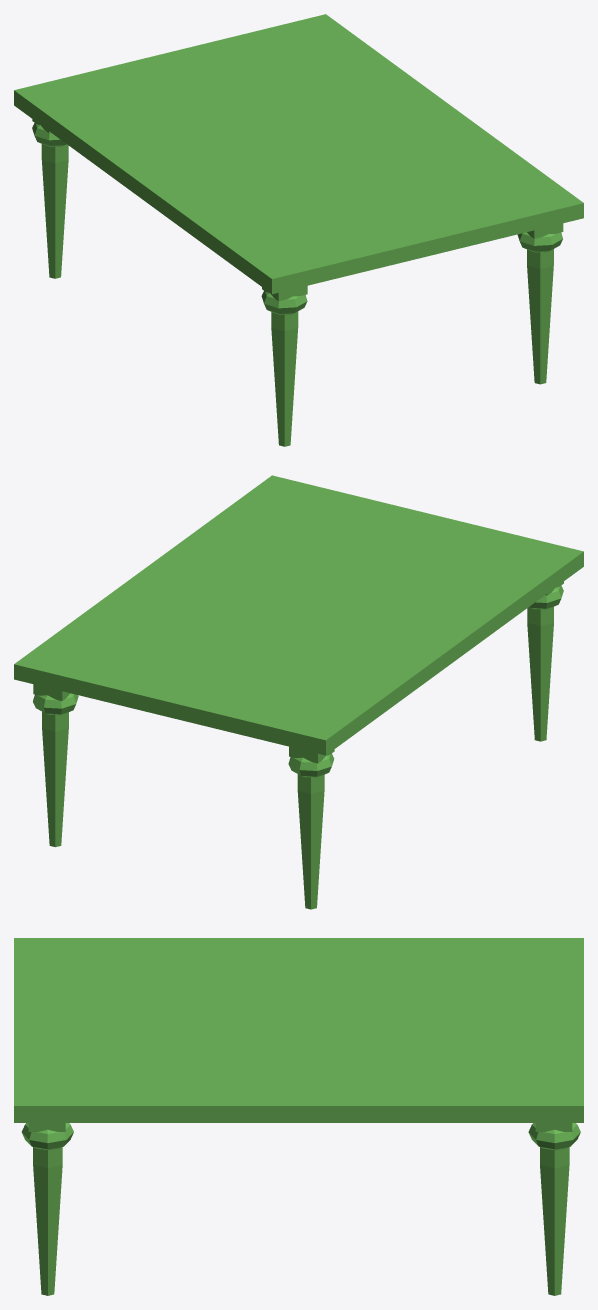
File: worktable.fbx
3 renders of one model, top to bottom at view 1: azimuth 30°, elevation 25°; view 2: azimuth 150°, elevation 25°; view 3: azimuth 270°, elevation 25°, orthographic. The views are drawn at different scales.
Visible parts, largest first — view 1: Table1; view 2: Table1; view 3: Table1.
Part boxes in pixels (x1,y1,x2,y2): Table1: (14, 14, 583, 446); Table1: (14, 475, 583, 909); Table1: (14, 938, 583, 1295).
Size of the model in its own units: 195 by 109 by 280.
